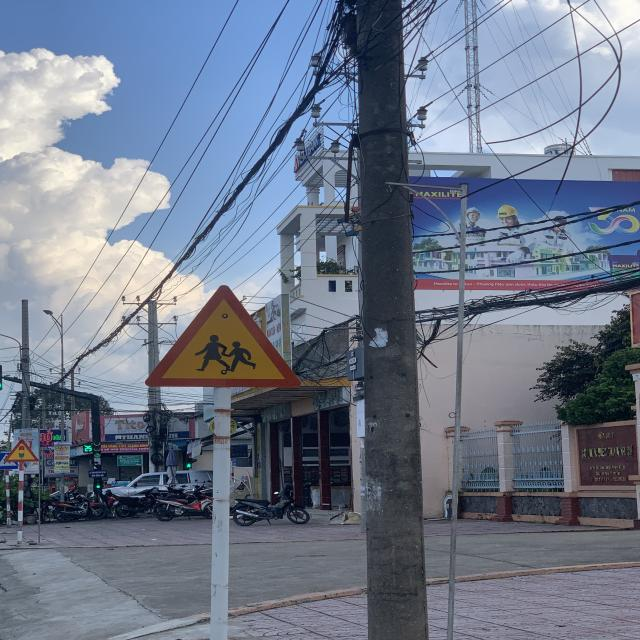Duong_Co_Go_Giam_Toc: (4, 439, 39, 462)
Vong_Xuyen: (147, 284, 301, 389)
